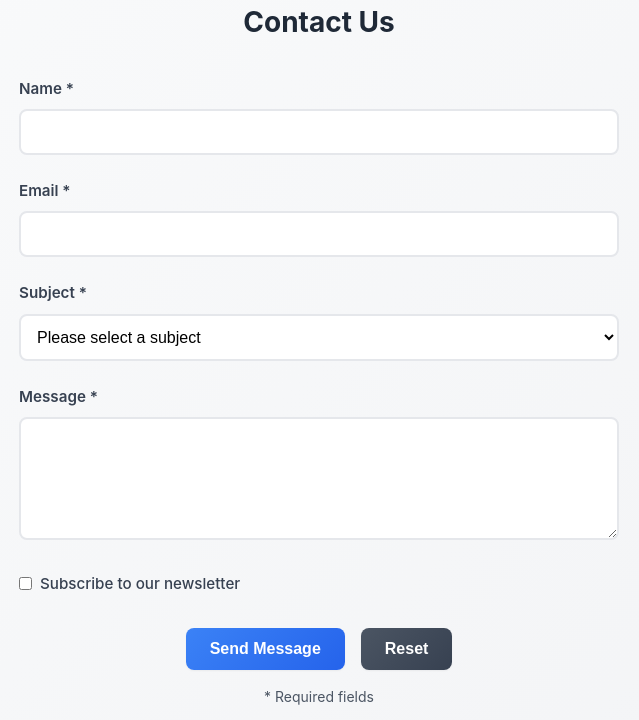
Test: Lesson 2: ContactForm Component - Forms & Async Testing › Form Validation › shows validation errors for empty required fields
Submit empty form
What coordinates should you click on to do the following:
click the button "Send Message"
I would click on:
 (265, 649)
Its box is x1=186 y1=628 x2=345 y2=670.
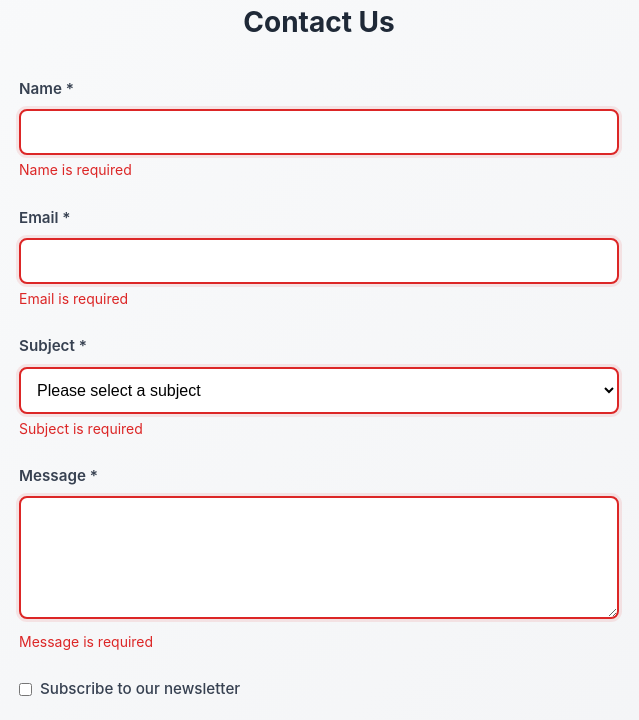
Now the message with test id "name-error" reads "Name is required", box x1=19 y1=161 x2=132 y2=178
Now the message with test id "email-error" reads "Email is required", box x1=19 y1=290 x2=128 y2=307
Now the message with test id "subject-error" reads "Subject is required", box x1=19 y1=420 x2=143 y2=436
